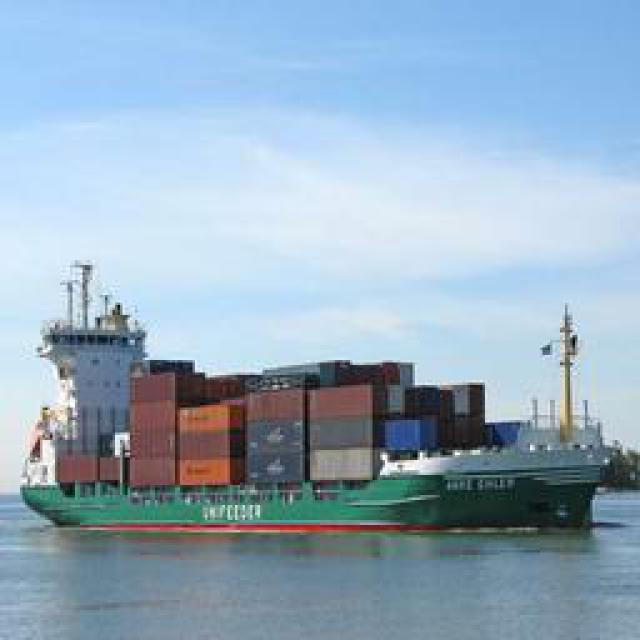Ship: (33, 297, 618, 535)
